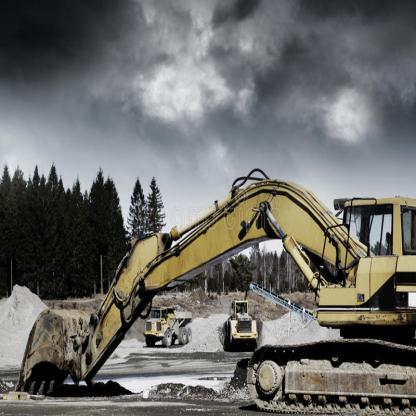dump_truck: (140, 304, 196, 344)
excavator: (8, 163, 415, 415)
